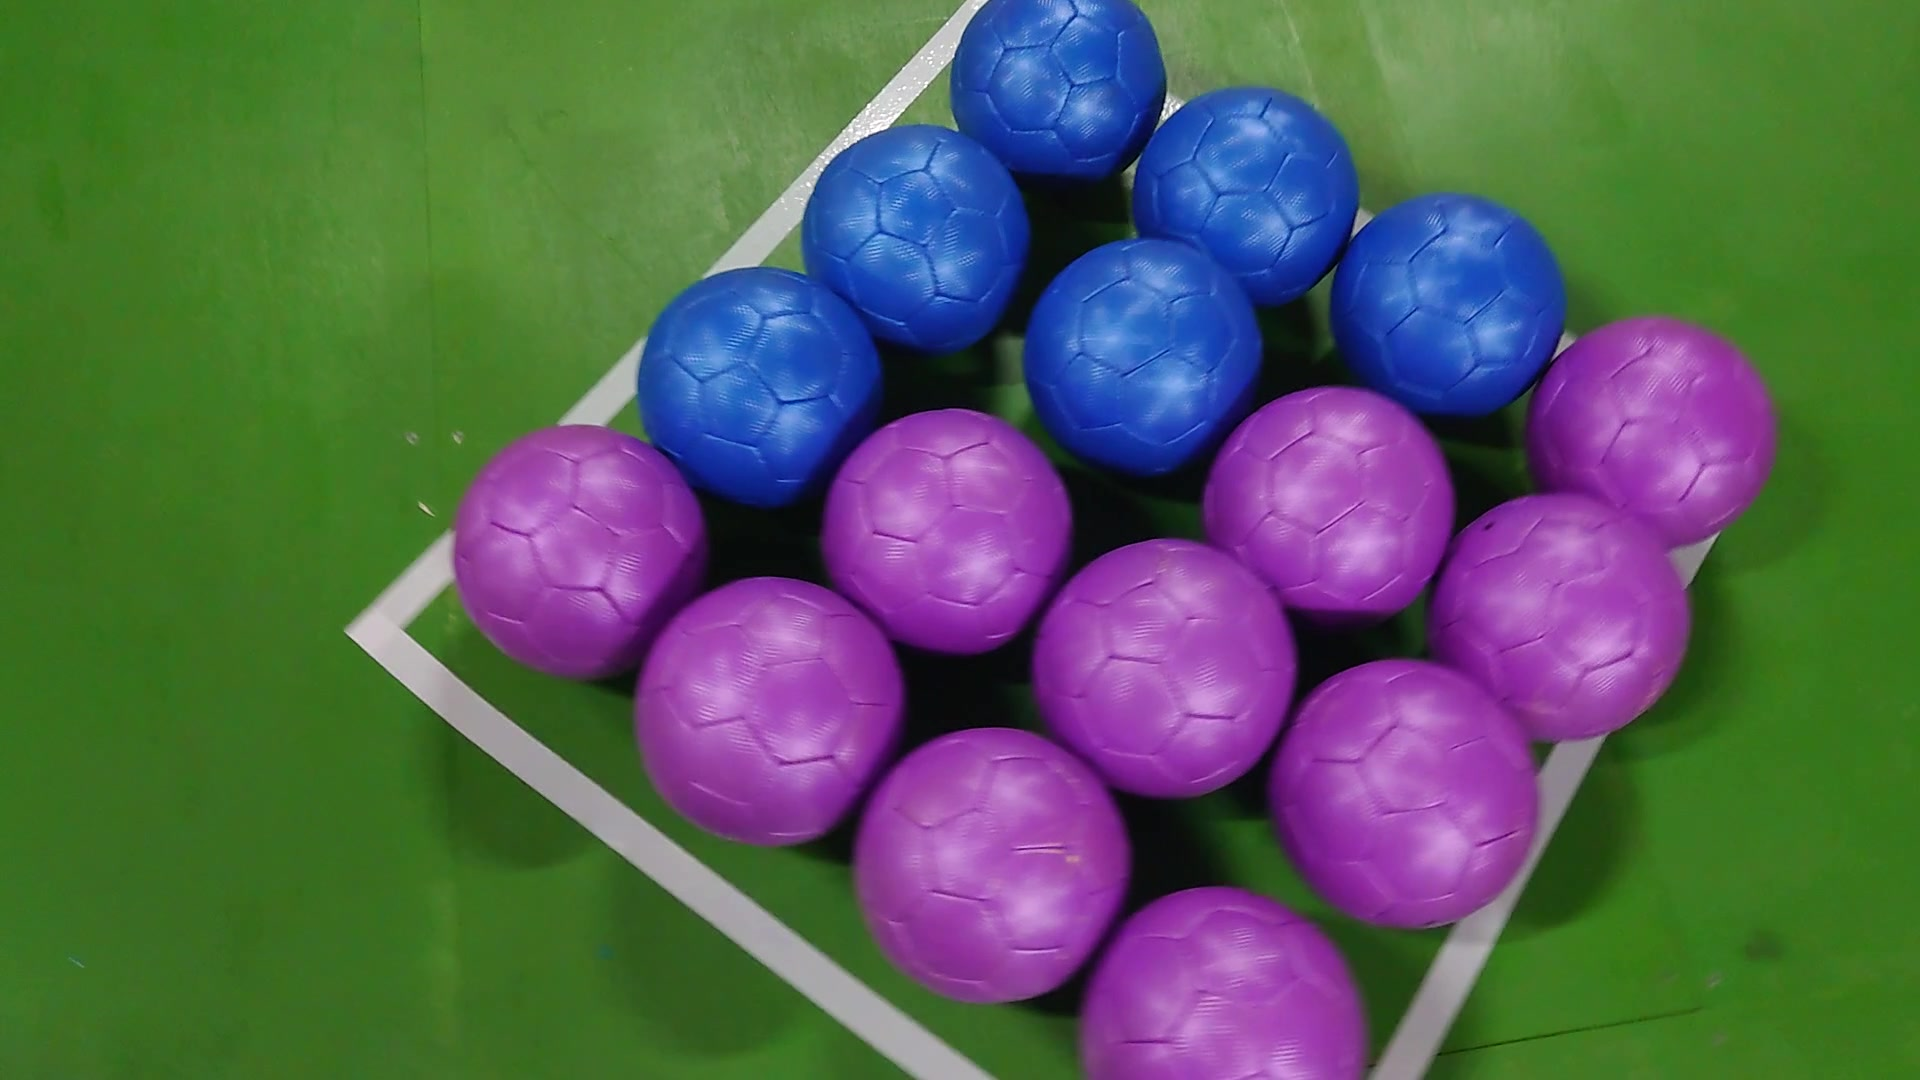blue: (633, 268, 882, 509), (1022, 235, 1274, 473), (1332, 186, 1568, 425), (794, 121, 1035, 345), (1130, 78, 1358, 303), (947, 0, 1168, 190)
purple: (845, 728, 1130, 1000), (1267, 657, 1542, 927), (630, 575, 907, 843), (1031, 535, 1300, 790), (454, 421, 705, 676), (820, 409, 1075, 657), (1431, 493, 1692, 732), (1201, 389, 1456, 620), (1524, 316, 1780, 546), (1077, 885, 1369, 1079)
